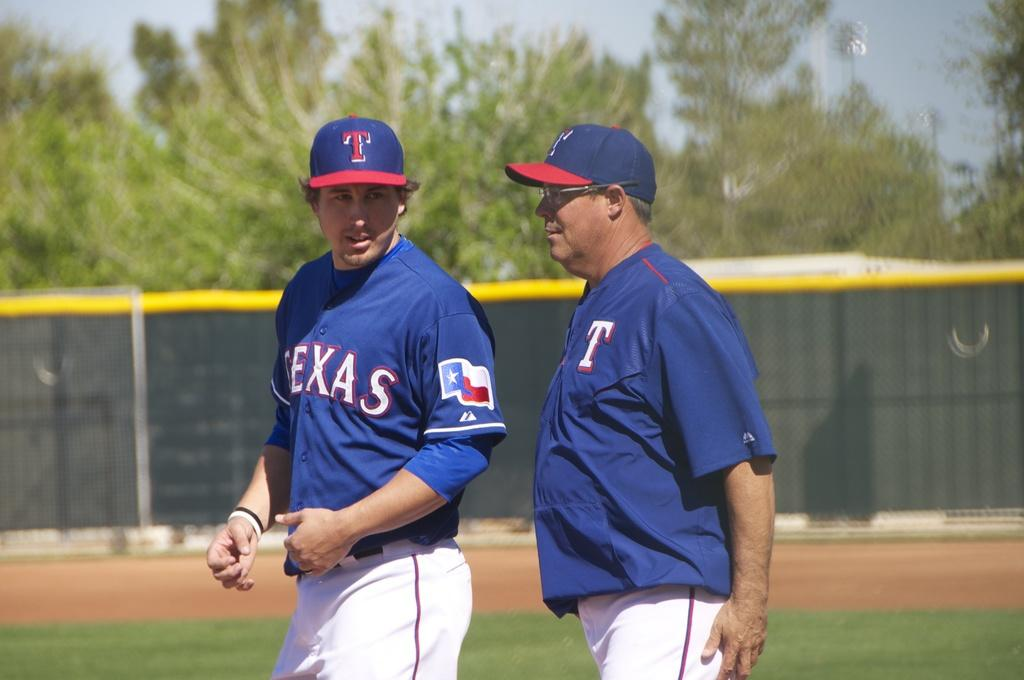Hat: (505, 124, 655, 202), (308, 113, 406, 185)
